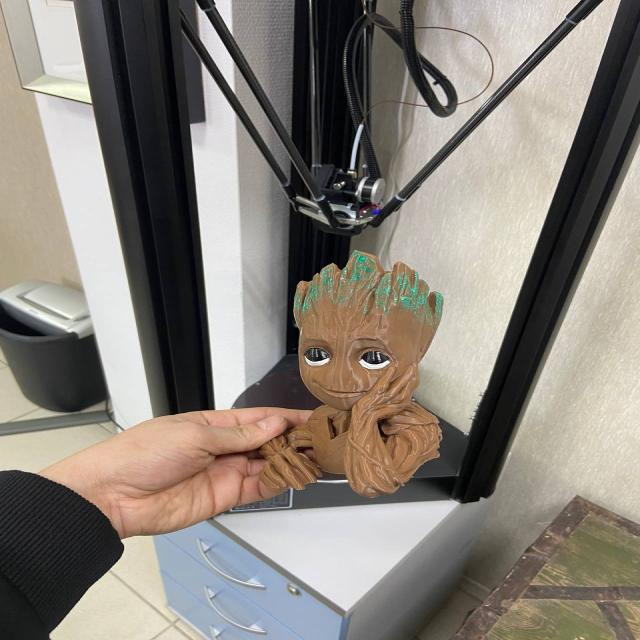Without deffect: (237, 248, 465, 506)
